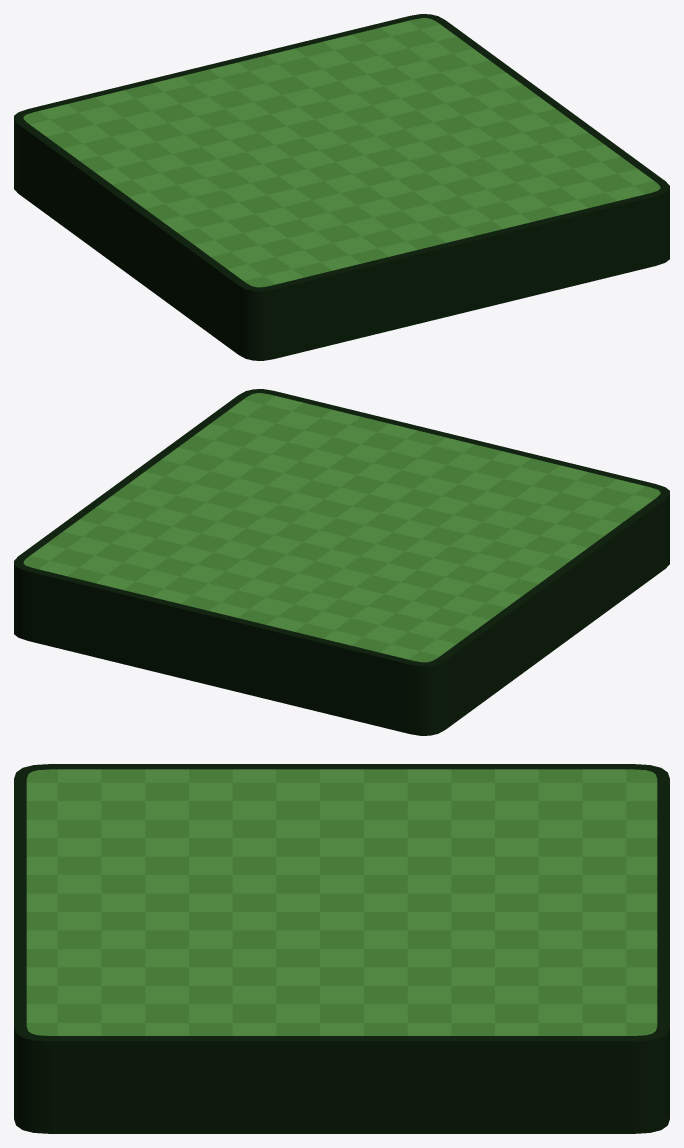
Rendered from Island.fbx.
3 renders of one model, top to bottom at view 1: azimuth 30°, elevation 25°; view 2: azimuth 150°, elevation 25°; view 3: azimuth 270°, elevation 25°, orthographic. The views are drawn at different scales.
Visible parts, largest first — view 1: MoneyIsland; view 2: MoneyIsland; view 3: MoneyIsland.
Part boxes in pixels (x1=…): MoneyIsland: x1=14, y1=14, x2=669, y2=360; MoneyIsland: x1=14, y1=389, x2=669, y2=735; MoneyIsland: x1=14, y1=764, x2=669, y2=1133.
Bounding box in the file's own units: 9.73 × 1.51 × 9.73.
